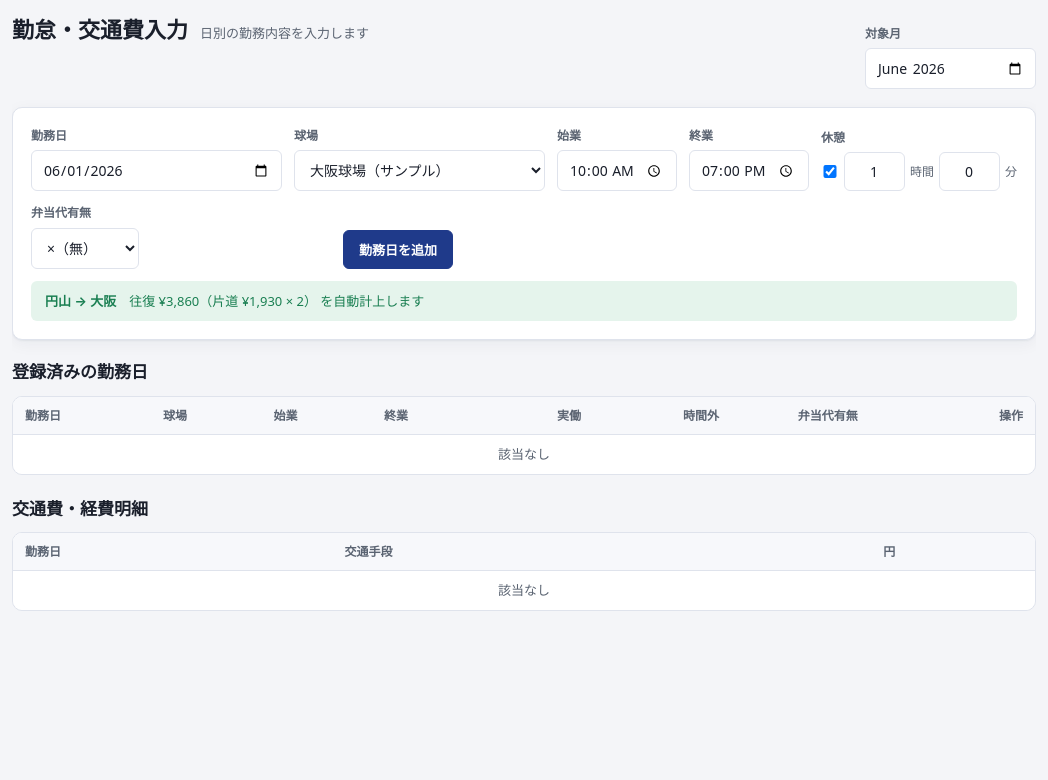
Scenario: AttendancePage — 交通費 preview › re-resolves the fare when the stadium changes
Expected: the element with class "banner" shows "¥3,860", [129, 292, 424, 310]
Select "新球場" in the dropdown labelled "球場" at (420,171), box [294, 150, 545, 191]
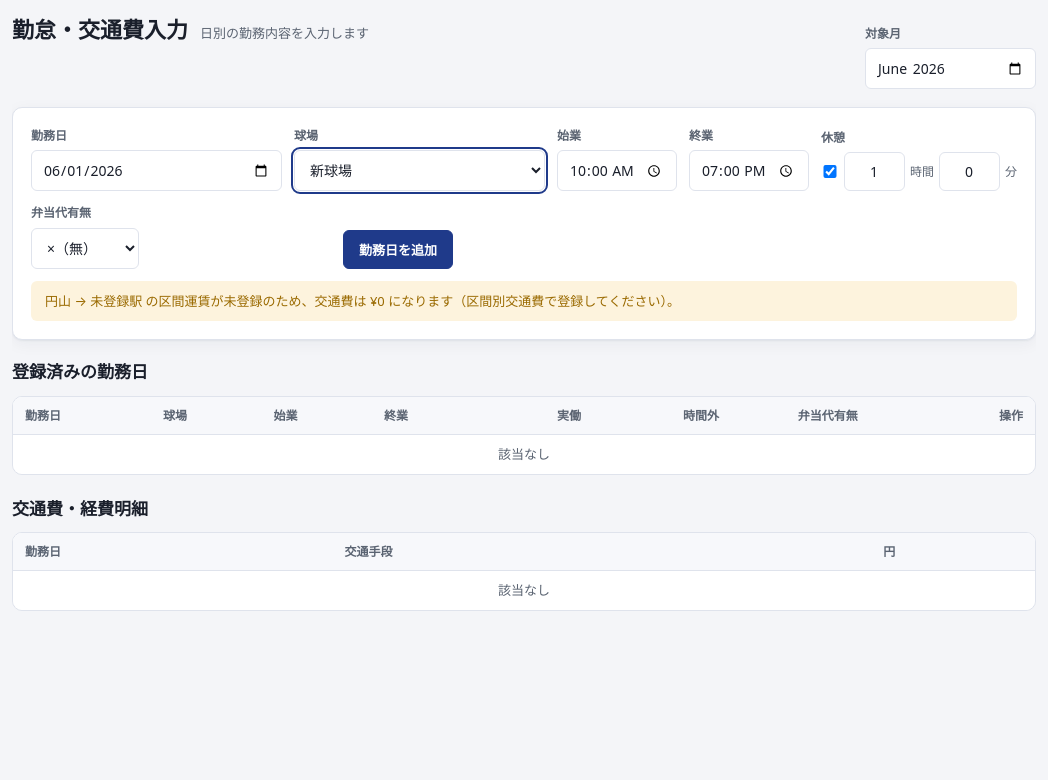
Now the text with class "banner" shows "未登録駅", box [45, 292, 680, 310]
Now the element with class "banner" no longer shows "¥3,860"
